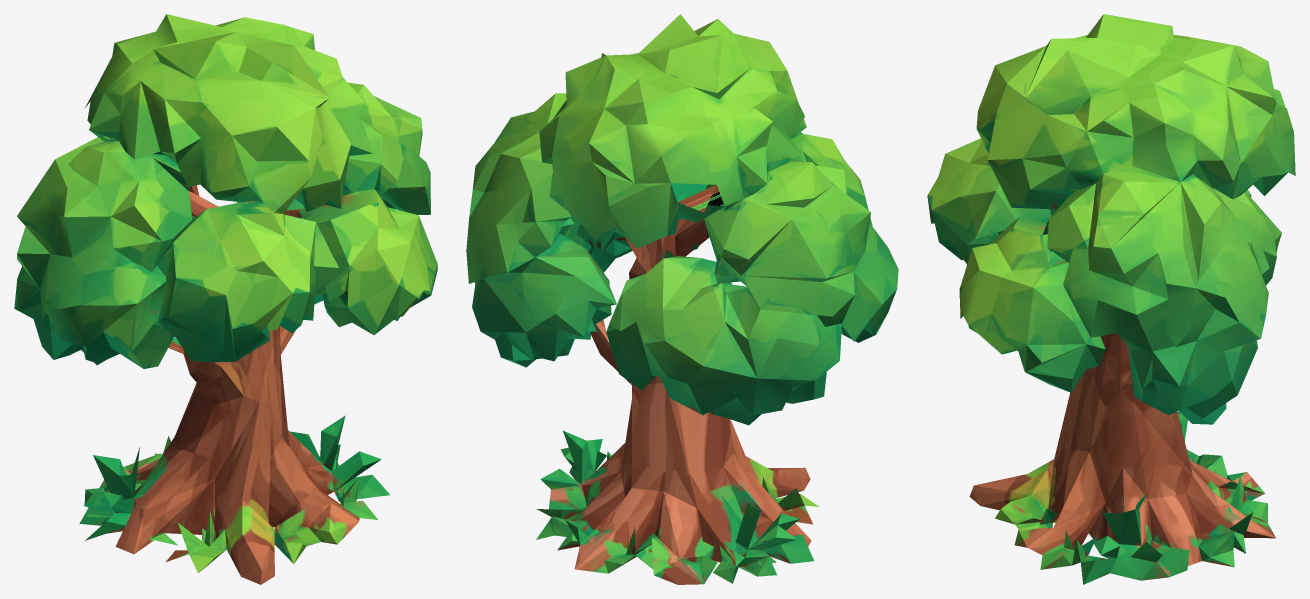
Rendered from Meshy_AI_Deciduous_Tree_Lowpol_1005170903_texture.glb.
3 views of the same model, side by side, from view 1: azimuth 30°, elevation 25°; view 2: azimuth 150°, elevation 25°; view 3: azimuth 270°, elevation 25° (orthographic).
Visible parts, largest first — view 1: output_unwrapped; view 2: output_unwrapped; view 3: output_unwrapped.
Part boxes in pixels (left/top/right/bottom): output_unwrapped: left=14, top=14, right=437, bottom=584; output_unwrapped: left=466, top=14, right=898, bottom=584; output_unwrapped: left=927, top=14, right=1295, bottom=584.
Size of the model in its own units: 1.6 by 1.9 by 1.29.
Materials: 1 (1 with a texture image).
